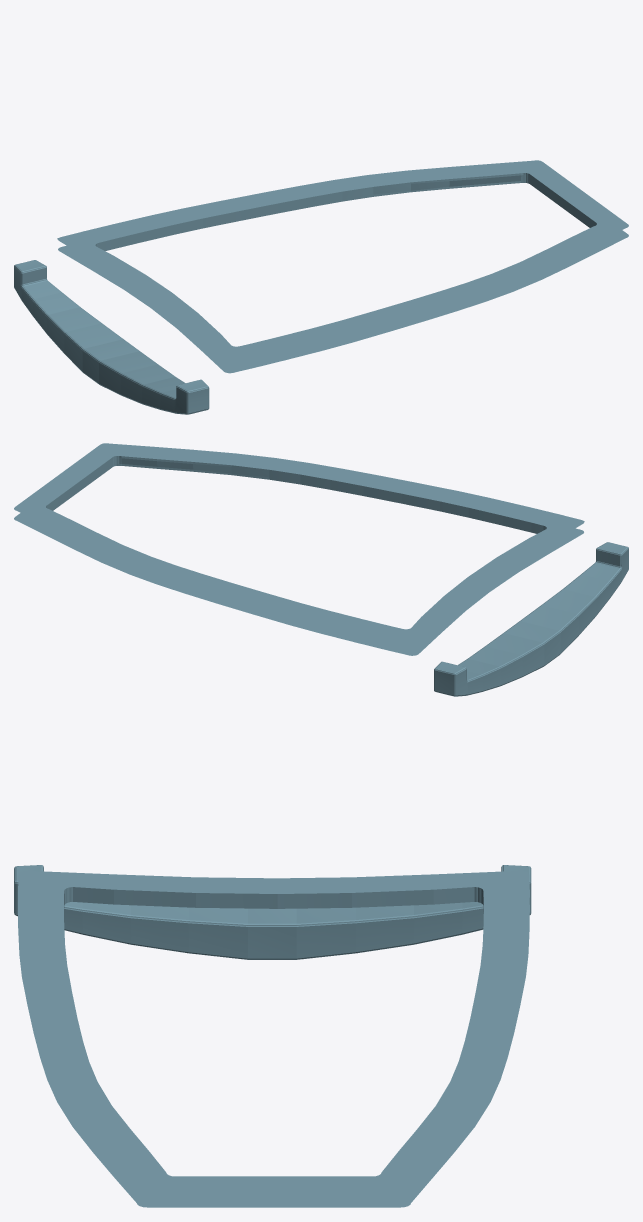
Rendered from DoormeshMicrowaveDoorC10_1_GeomSubset_1.obj.
3 views of the same model, one above another, from view 1: azimuth 30°, elevation 25°; view 2: azimuth 150°, elevation 25°; view 3: azimuth 270°, elevation 25° (orthographic). The views are drawn at different scales.
Visible parts, largest first — view 1: DoormeshMicrowaveDoorC10_1_GeomSubset_1; view 2: DoormeshMicrowaveDoorC10_1_GeomSubset_1; view 3: DoormeshMicrowaveDoorC10_1_GeomSubset_1.
Part boxes in pixels (x1,y1,x2,y2): DoormeshMicrowaveDoorC10_1_GeomSubset_1: [14, 160, 628, 414]; DoormeshMicrowaveDoorC10_1_GeomSubset_1: [14, 443, 628, 696]; DoormeshMicrowaveDoorC10_1_GeomSubset_1: [14, 865, 531, 1207].
Size of the model in its own units: 0.4622 by 0.206 by 0.3348.
